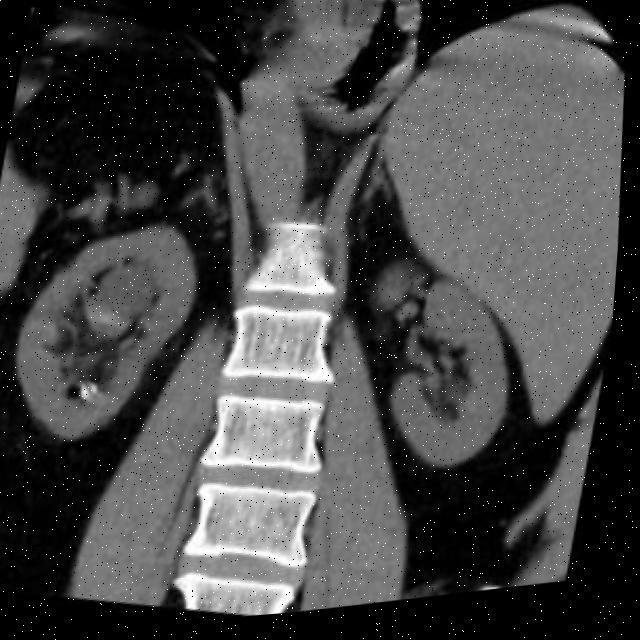Tas_Var: (89, 381, 105, 400), (82, 383, 95, 402)
